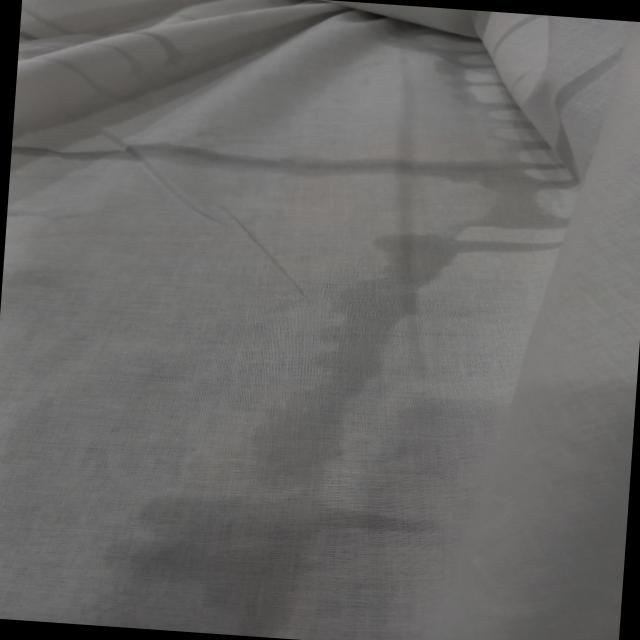baekra: (0, 132, 579, 640)
